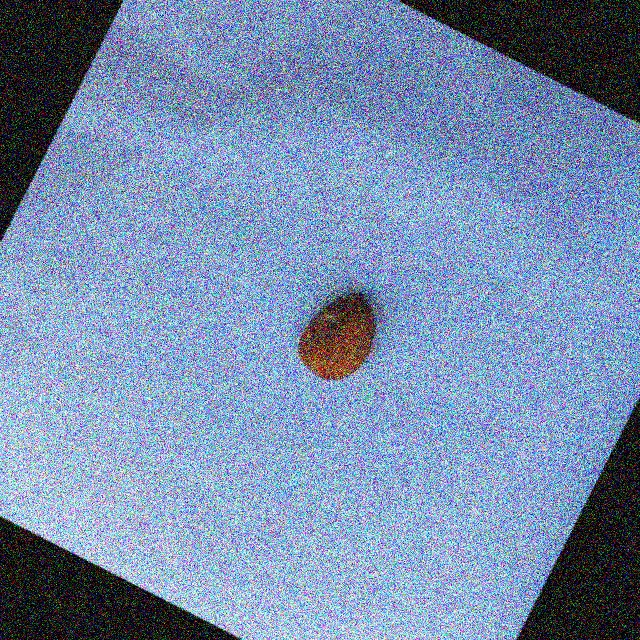grade3: (282, 275, 394, 397)
